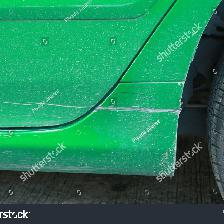scrach: (0, 50, 201, 182)
